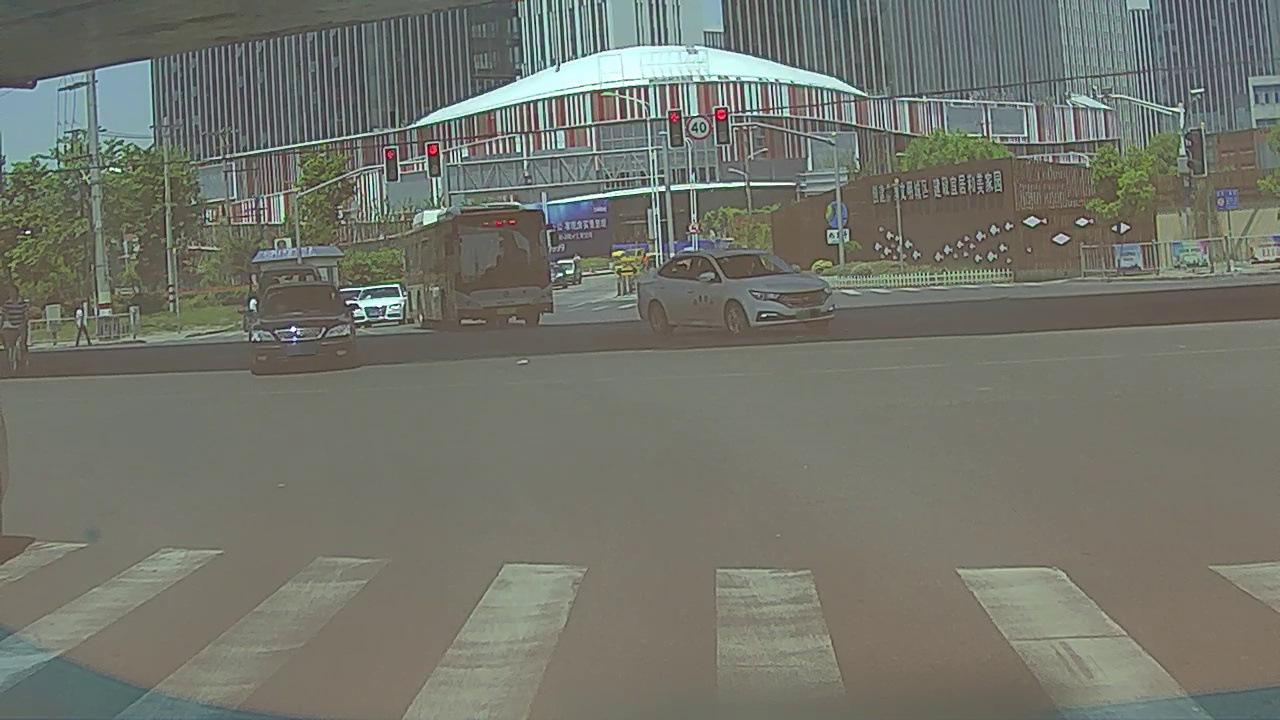traffic_light: (667, 111, 684, 147), (714, 107, 730, 144), (426, 143, 441, 177), (385, 148, 398, 182)
